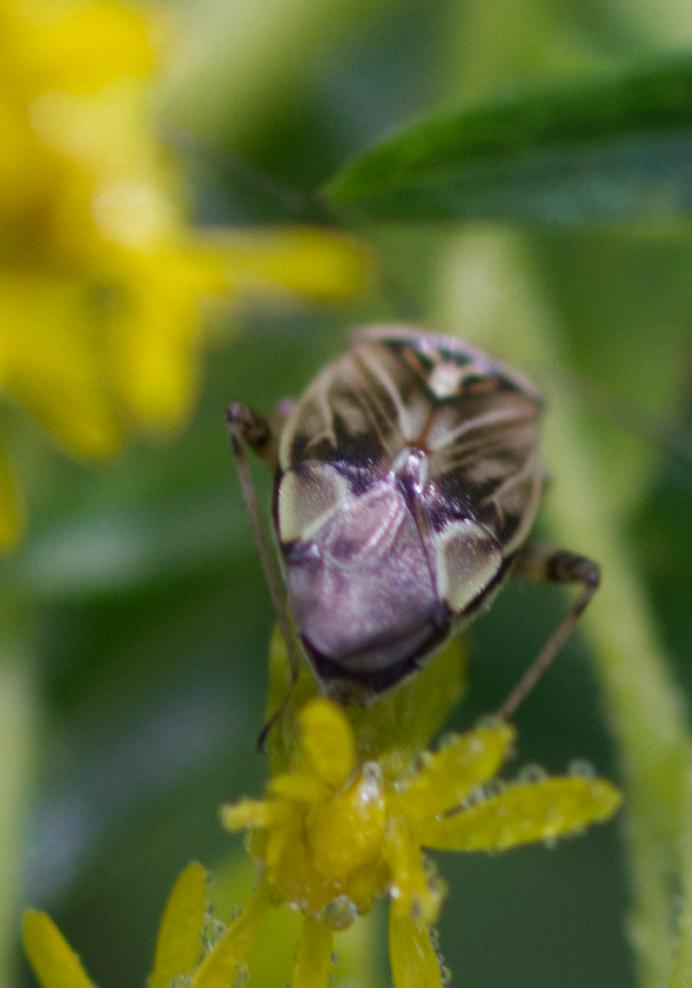plant_bugs: (157, 204, 687, 848)
